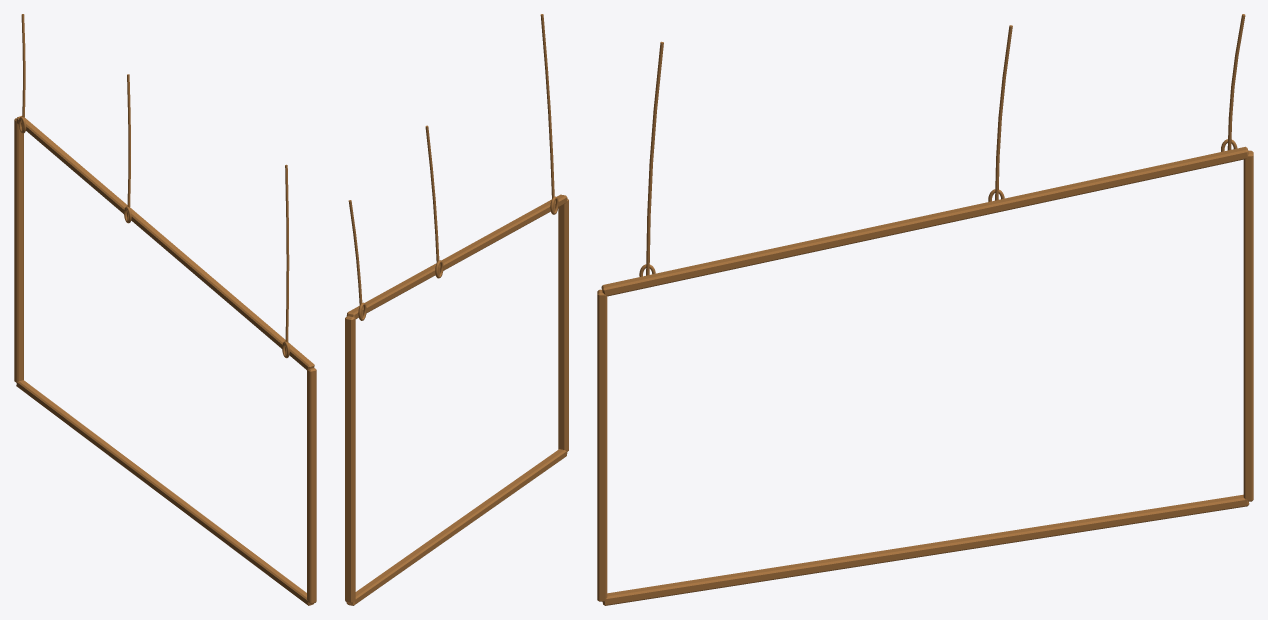
Rendered from SM_Menu_BackdropRigging.fbx.
The picture shows the model from 3 angles, left to right: view 1: azimuth 30°, elevation 25°; view 2: azimuth 150°, elevation 25°; view 3: azimuth 270°, elevation 25°; orthographic projection. The views are drawn at different scales.
Parts seen in each view (by area): view 1: SM_Menu_BackdropRigging; view 2: SM_Menu_BackdropRigging; view 3: SM_Menu_BackdropRigging.
Boxes of the visible parts, box(x1,y1,x2,y2) form: SM_Menu_BackdropRigging: box(14, 14, 316, 605); SM_Menu_BackdropRigging: box(345, 14, 568, 605); SM_Menu_BackdropRigging: box(597, 14, 1253, 605).
Bounding box in the file's own units: 94.65 × 720 × 679.
